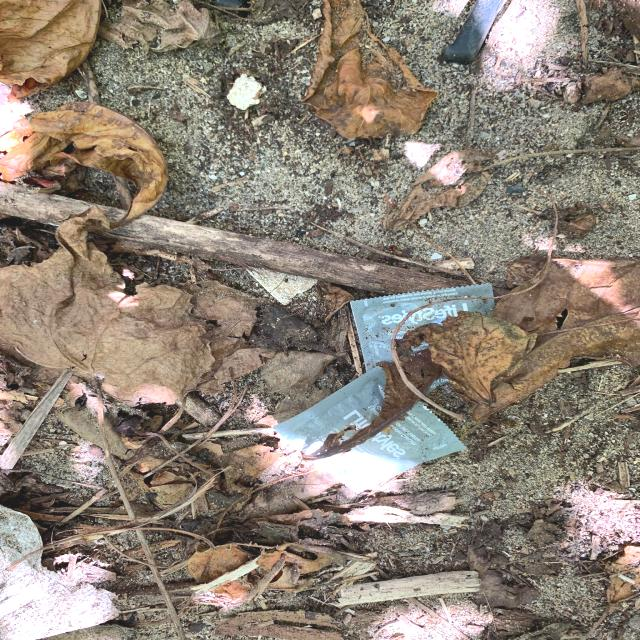Other plastic: (273, 366, 467, 493), (350, 283, 495, 394)
Styrofoam piece: (242, 266, 317, 304), (225, 73, 267, 110)
